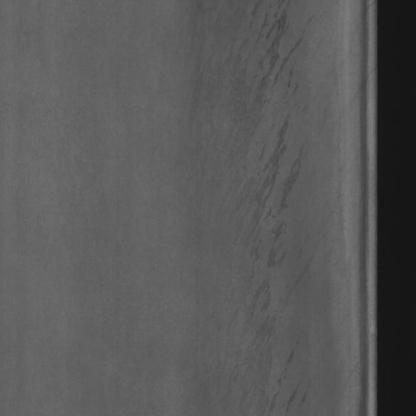water_spot: (221, 6, 304, 390)
